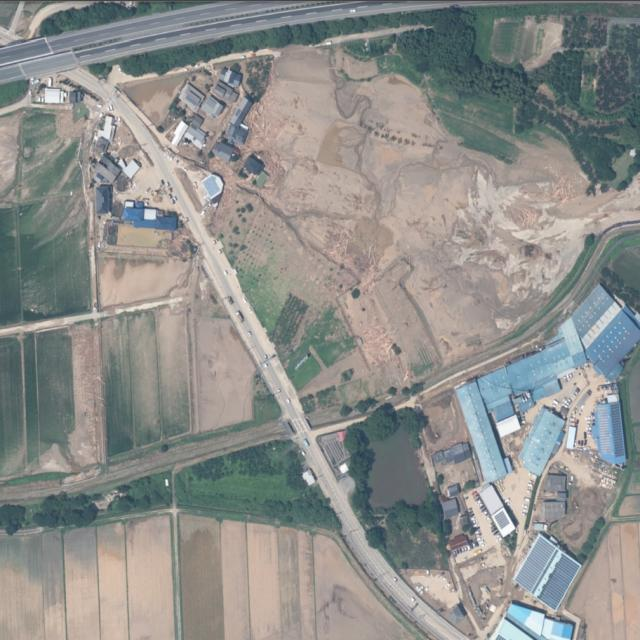landslide: (250, 45, 640, 385)
